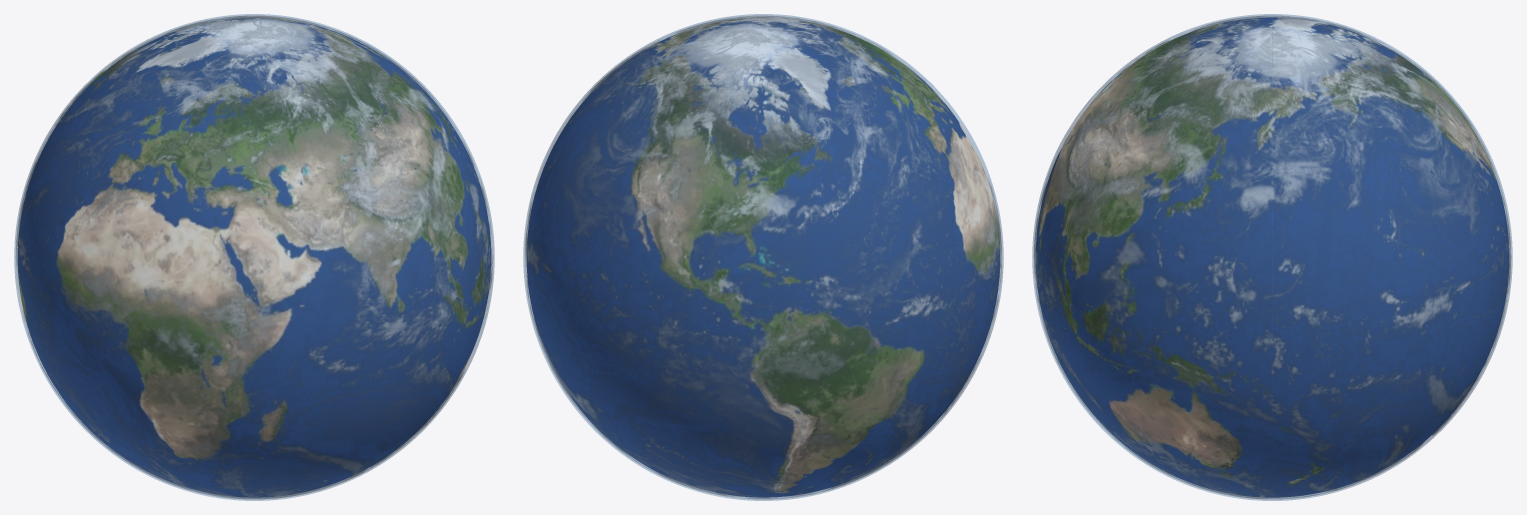
Rendered from earth.glb.
3 views of the same model, side by side, from view 1: azimuth 30°, elevation 25°; view 2: azimuth 150°, elevation 25°; view 3: azimuth 270°, elevation 25° (orthographic).
Parts seen in each view (by area): view 1: pSphere5_lambert7_0, pSphere1_phong1_0, pSphere4_lambert6_0; view 2: pSphere5_lambert7_0, pSphere1_phong1_0, pSphere4_lambert6_0; view 3: pSphere5_lambert7_0, pSphere1_phong1_0, pSphere4_lambert6_0.
Boxes of the visible parts, bbox=[...] form: pSphere5_lambert7_0: bbox=[14, 14, 494, 500]; pSphere1_phong1_0: bbox=[17, 17, 491, 497]; pSphere4_lambert6_0: bbox=[16, 15, 492, 499]; pSphere5_lambert7_0: bbox=[523, 14, 1003, 500]; pSphere1_phong1_0: bbox=[526, 17, 1000, 497]; pSphere4_lambert6_0: bbox=[525, 15, 1001, 499]; pSphere5_lambert7_0: bbox=[1032, 14, 1512, 500]; pSphere1_phong1_0: bbox=[1035, 17, 1509, 497]; pSphere4_lambert6_0: bbox=[1034, 15, 1510, 499].
Size of the model in its own units: 192 by 196 by 192.
Materials: 3 (2 with a texture image).
